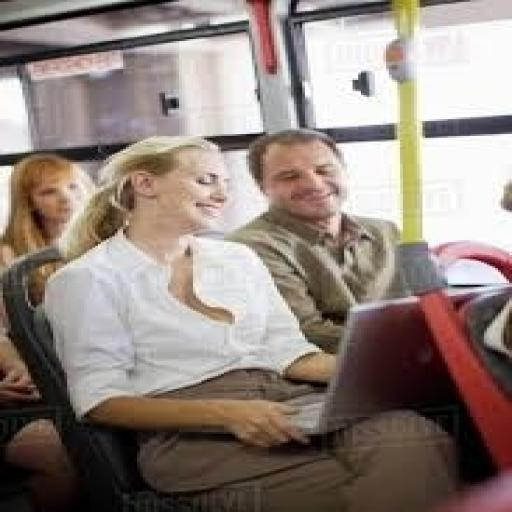sitting: (36, 130, 462, 510), (224, 126, 448, 356)
